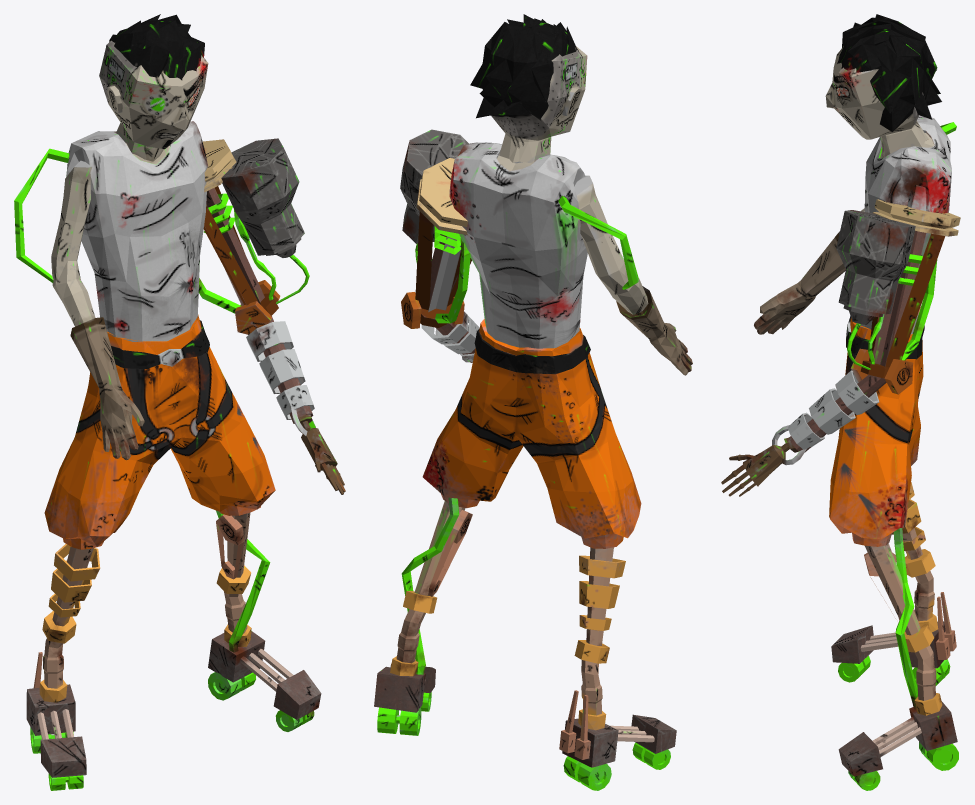
Rendered from CyborgFINALAnimation_000039.obj.
The picture shows the model from 3 angles, left to right: view 1: azimuth 30°, elevation 25°; view 2: azimuth 150°, elevation 25°; view 3: azimuth 270°, elevation 25°; orthographic projection. The views are drawn at different scales.
Parts seen in each view (by area): view 1: CyborgMesh_Cube.002; view 2: CyborgMesh_Cube.002; view 3: CyborgMesh_Cube.002.
Boxes of the visible parts, left/top/right/bottom form: CyborgMesh_Cube.002: left=14, top=14, right=345, bottom=790; CyborgMesh_Cube.002: left=374, top=14, right=692, bottom=790; CyborgMesh_Cube.002: left=721, top=14, right=960, bottom=790.
Size of the model in its own units: 3.76 by 9.67 by 2.98.
